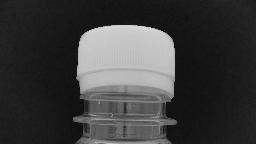Broken Cap: (68, 23, 180, 129)
Loose Cap: (71, 67, 177, 125)
